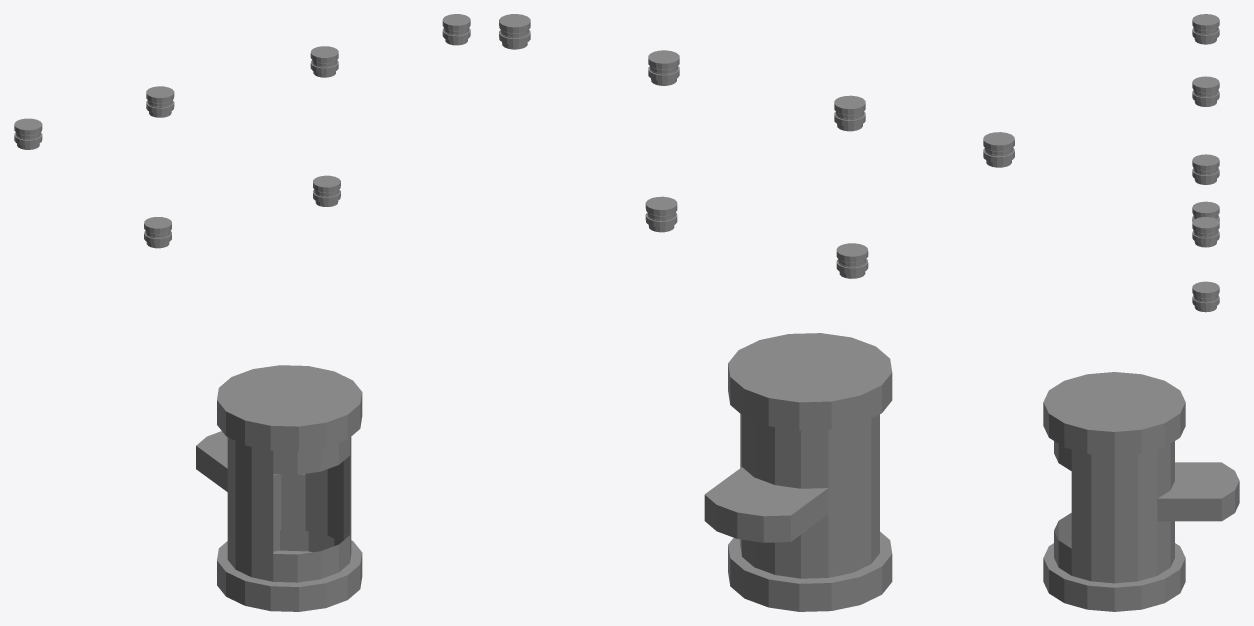
Rendered from eletric_(pole)_(transformer).001_metal_(matte)_0_lev3.glb.
3 views of the same model, side by side, from view 1: azimuth 30°, elevation 25°; view 2: azimuth 150°, elevation 25°; view 3: azimuth 270°, elevation 25° (orthographic). The views are drawn at different scales.
Parts seen in each view (by area): view 1: eletric_(pole)_(transformer).001_metal_(matte)_0_lev3; view 2: eletric_(pole)_(transformer).001_metal_(matte)_0_lev3; view 3: eletric_(pole)_(transformer).001_metal_(matte)_0_lev3.
Part boxes in pixels (x1,y1,x2,y2): eletric_(pole)_(transformer).001_metal_(matte)_0_lev3: (14, 14, 470, 611); eletric_(pole)_(transformer).001_metal_(matte)_0_lev3: (499, 14, 1014, 611); eletric_(pole)_(transformer).001_metal_(matte)_0_lev3: (1043, 14, 1239, 611).
Size of the model in its own units: 1.51 by 1.52 by 0.5846.
1 material, 1 textured.
